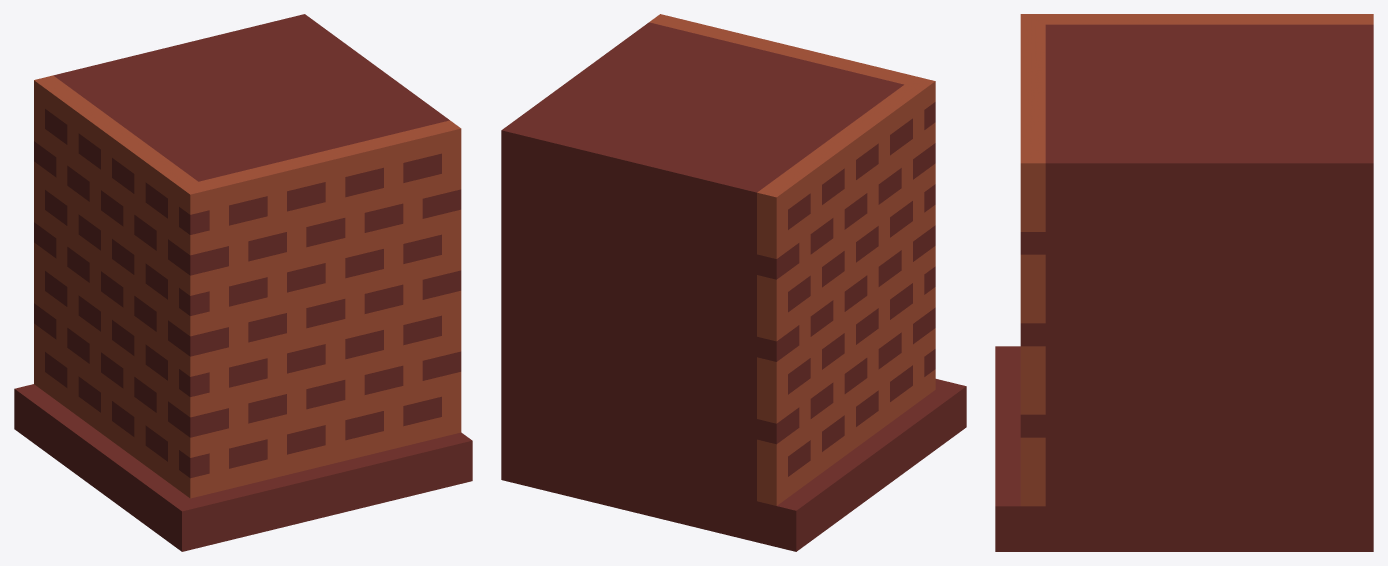
File: dungeon_b_b_outer_wall_corner_a.obj
3 renders of one model, left to right at view 1: azimuth 30°, elevation 25°; view 2: azimuth 150°, elevation 25°; view 3: azimuth 270°, elevation 25°, orthographic. The views are drawn at different scales.
Bounding box in the file's own units: 1.5 × 1.7 × 1.5.
Materials: 1 (1 with a texture image).
